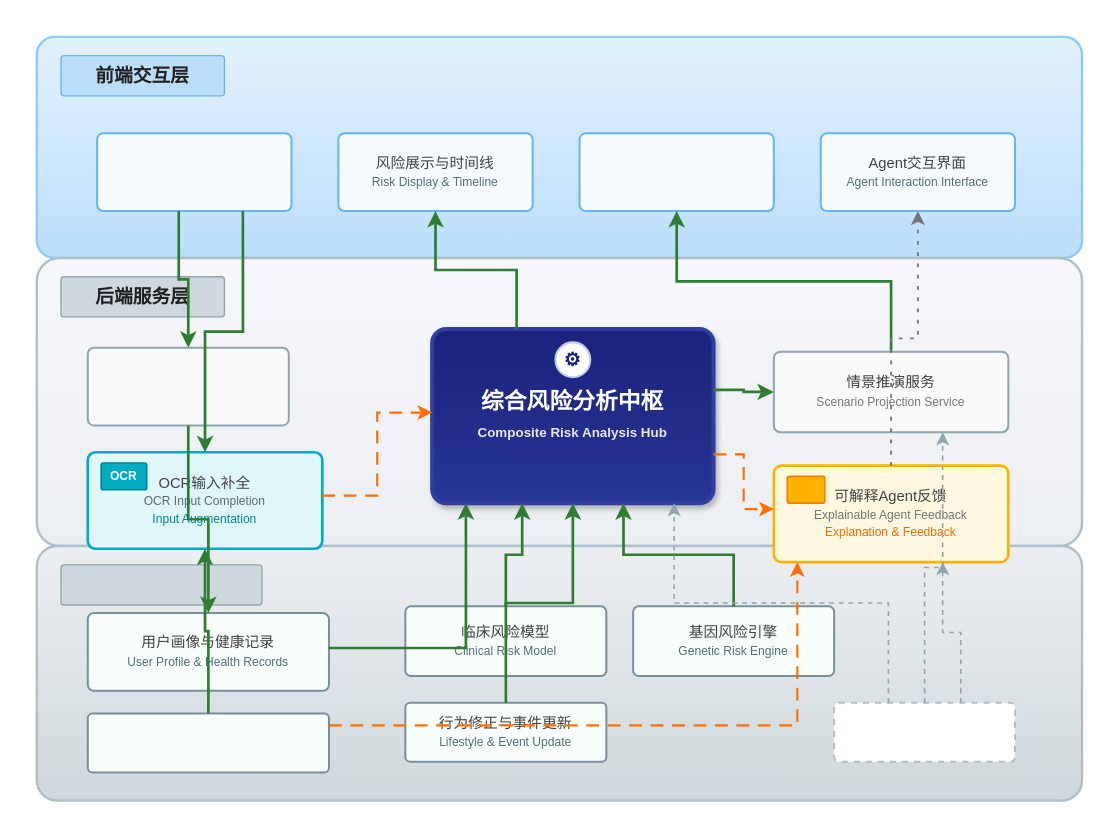
Image size: 1118x836. Some labels were removed from this diagram. The shapes that lost their labels are listed below. From the top down, each one's centre as x and y in pixels, then its label:
At point (194, 171): "健康档案与报告上传 Health Profile & Report Upload".
At point (676, 171): "情景推演与方案比较 Scenario Projection & Comparison".
At point (187, 386): "用户认证与权限控制 Auth & Access Control".
At point (805, 489): "AI".
At point (161, 584): "数据与模型支撑层".
At point (207, 742): "文档摘要与知识检索 Document Summary & Retrieval Base".
At point (924, 731): "可选缓存与运行支撑 Optional Cache Support".
